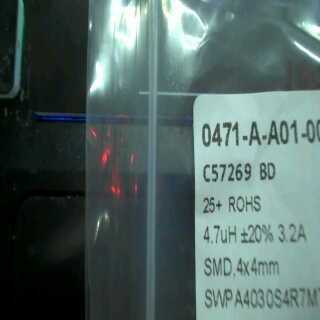4.7uH: (200, 222, 239, 247)
